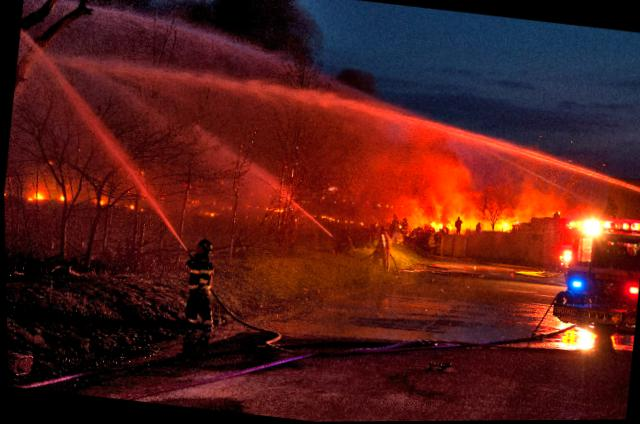fire: (86, 191, 112, 209), (24, 187, 44, 204), (53, 190, 72, 204), (126, 198, 139, 214)
smoke: (302, 124, 483, 214), (230, 0, 333, 54), (24, 0, 235, 20), (513, 177, 572, 218)
